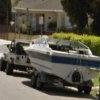Boat: (21, 36, 99, 93)
